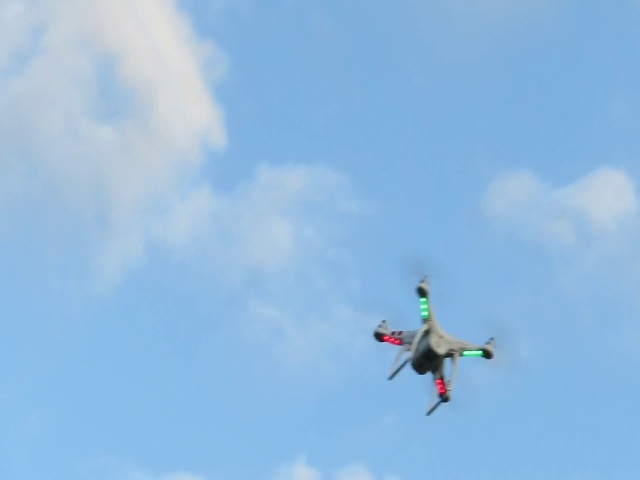drone: (364, 267, 503, 419)
